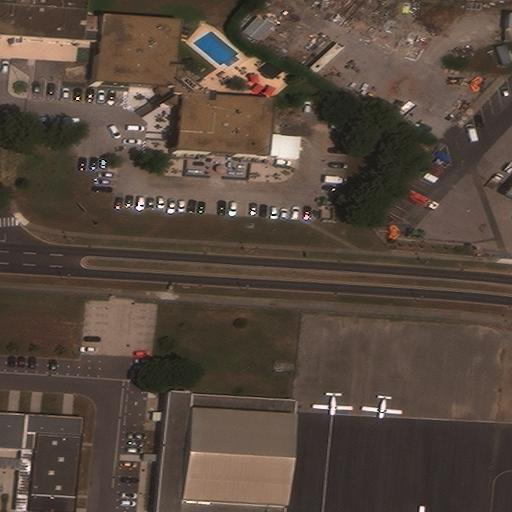Small Civil Transport: (311, 391, 352, 416), (360, 394, 402, 418)
